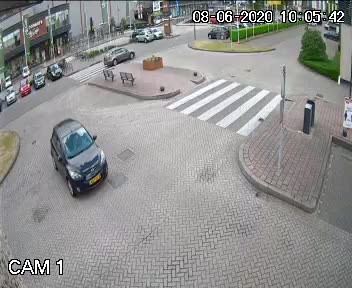car: (40, 115, 113, 200), (97, 45, 140, 65)
